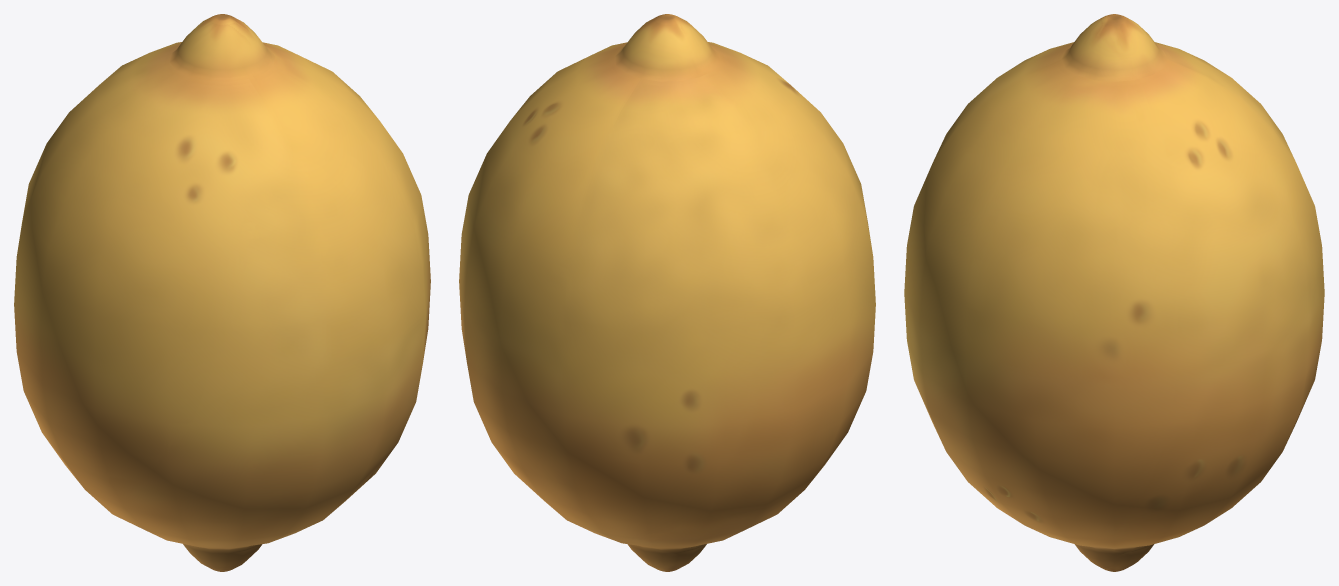
The model's file is limon-entero.fbx.
The picture shows the model from 3 angles, left to right: view 1: azimuth 30°, elevation 25°; view 2: azimuth 150°, elevation 25°; view 3: azimuth 270°, elevation 25°; orthographic projection.
Visible parts, largest first — view 1: Limão; view 2: Limão; view 3: Limão.
Part boxes in pixels (bbox=[...]): Limão: bbox=[14, 14, 430, 571]; Limão: bbox=[459, 14, 875, 571]; Limão: bbox=[904, 14, 1324, 571].
Size of the model in its own units: 215 by 311 by 215.
